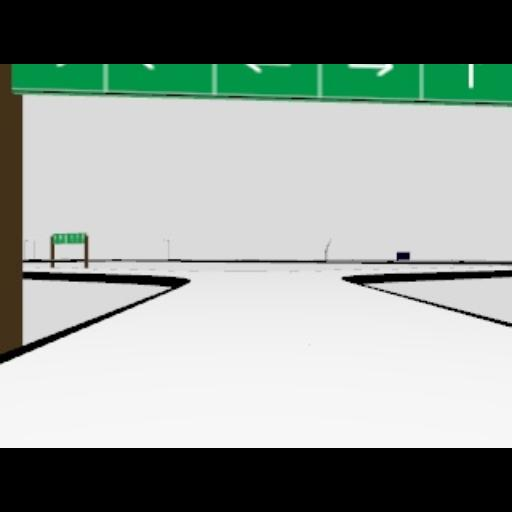Left: (243, 65, 295, 75)
Right: (348, 64, 398, 78)
